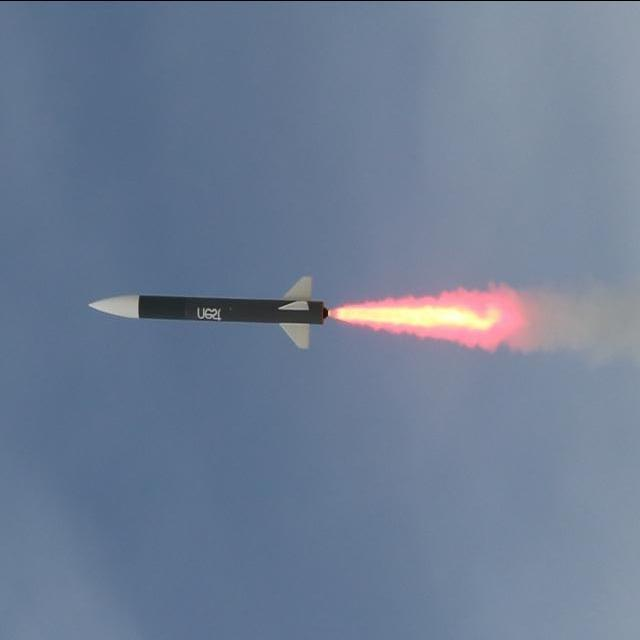missile: (85, 274, 329, 351), (72, 288, 350, 330)
